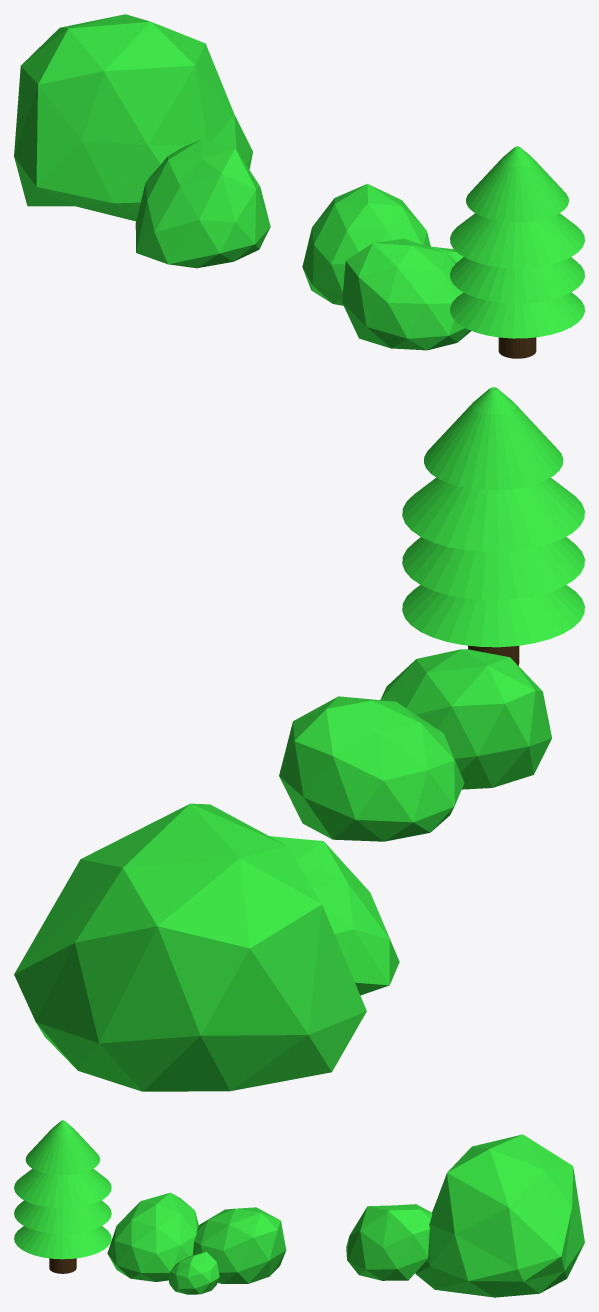
File: bushes_and_tree.fbx
3 renders of one model, top to bottom at view 1: azimuth 30°, elevation 25°; view 2: azimuth 150°, elevation 25°; view 3: azimuth 270°, elevation 25°, orthographic. The views are drawn at different scales.
Parts seen in each view (by area): view 1: bush2, tree, bush1; view 2: bush2, tree, bush1; view 3: bush2, bush1, tree.
Part boxes in pixels (x1=…): bush2: x1=14, y1=14, x2=270, y2=268; tree: x1=450, y1=146, x2=584, y2=358; bush1: x1=302, y1=184, x2=471, y2=350; bush2: x1=14, y1=803, x2=399, y2=1091; tree: x1=402, y1=387, x2=584, y2=665; bush1: x1=279, y1=649, x2=551, y2=841; bush2: x1=346, y1=1134, x2=584, y2=1297; bush1: x1=107, y1=1192, x2=286, y2=1294; tree: x1=14, y1=1120, x2=111, y2=1273.
Bounding box in the file's own units: 431 × 397 × 1168.
